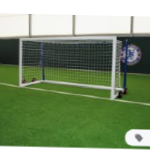goals: (16, 33, 129, 105)
